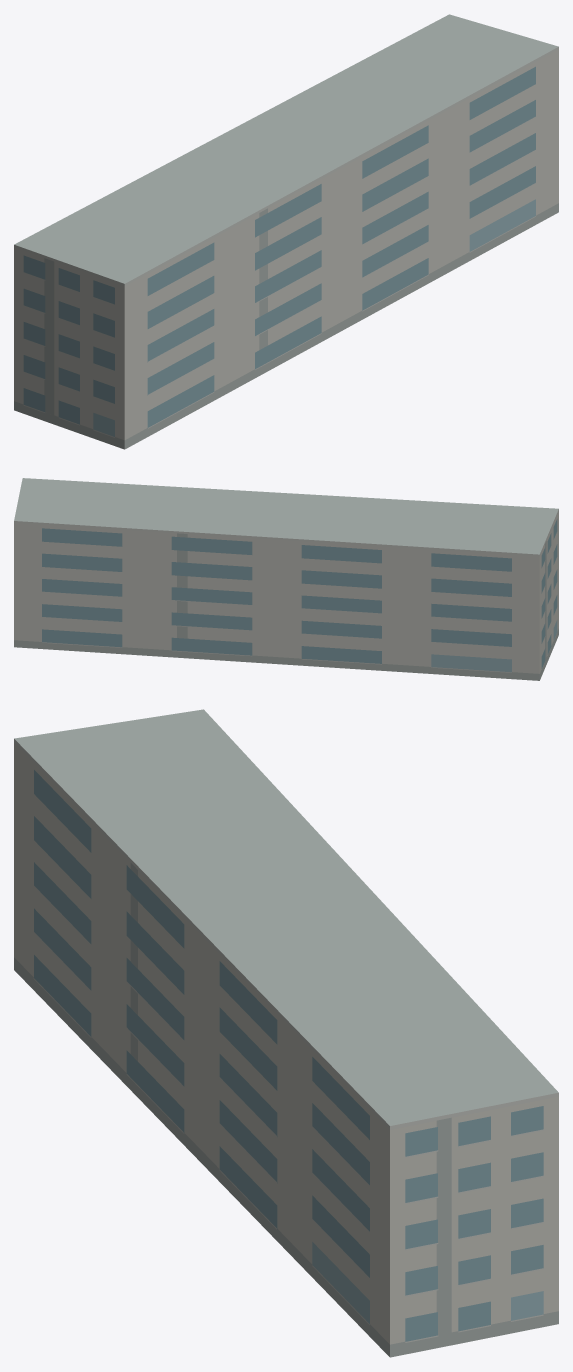
Rendered from residential-d36c531b-7a9c-464f-9fb5-857c0443272c.glb.
The picture shows the model from 3 angles, top to bottom: view 1: azimuth 30°, elevation 25°; view 2: azimuth 150°, elevation 25°; view 3: azimuth 270°, elevation 25°; orthographic projection. The views are drawn at different scales.
Visible parts, largest first — view 1: residential-d36c531b-7a9c-464f-9fb5-857c0443272c.tmp; view 2: residential-d36c531b-7a9c-464f-9fb5-857c0443272c.tmp; view 3: residential-d36c531b-7a9c-464f-9fb5-857c0443272c.tmp.
Part boxes in pixels (x1,y1,x2,y2): residential-d36c531b-7a9c-464f-9fb5-857c0443272c.tmp: (14,14,558,449); residential-d36c531b-7a9c-464f-9fb5-857c0443272c.tmp: (14,478,558,680); residential-d36c531b-7a9c-464f-9fb5-857c0443272c.tmp: (14,709,558,1357).
Bounding box in the file's own units: 58.91 × 15.25 × 32.55.
